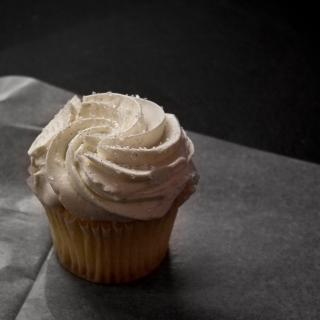Muffin: (25, 92, 199, 280)
